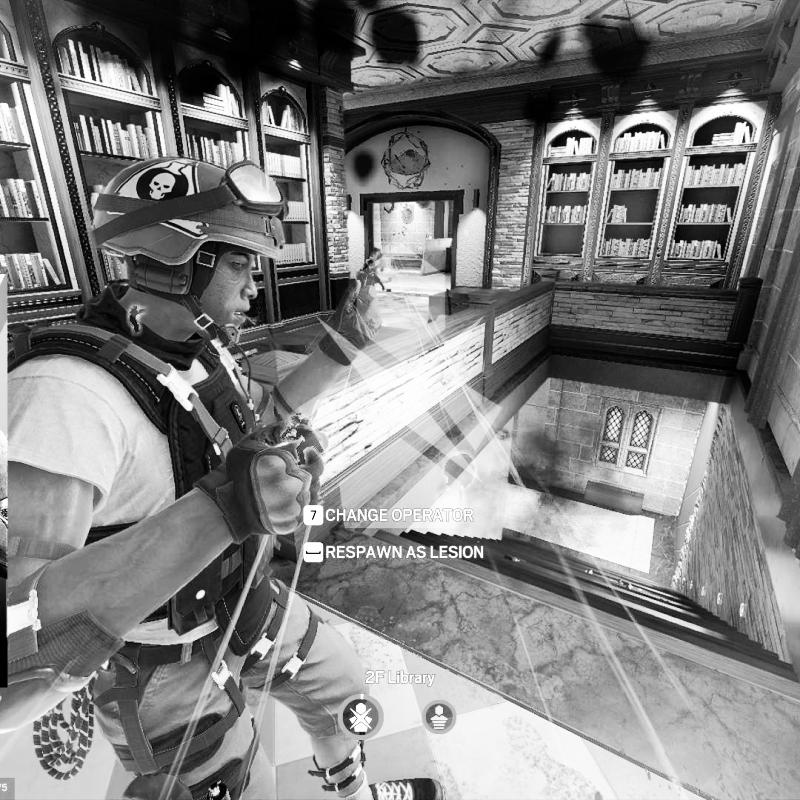Character: (10, 150, 365, 796), (356, 245, 386, 296)
Head: (87, 152, 289, 357), (374, 250, 384, 260)
